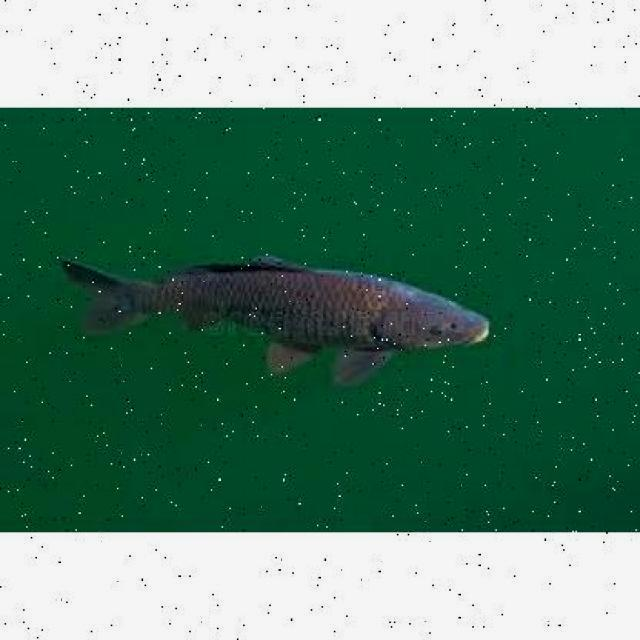ikan-mas: (60, 250, 491, 390)
